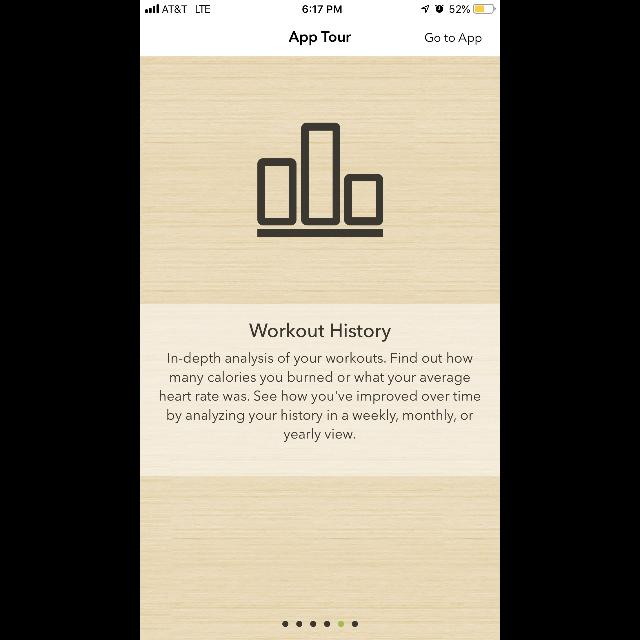image: (258, 123, 384, 237)
pageindicator: (282, 621, 358, 627)
text: (160, 352, 480, 442), (249, 322, 391, 342), (289, 32, 351, 46), (425, 33, 481, 45)
uppertaskbar: (140, 0, 500, 14)
